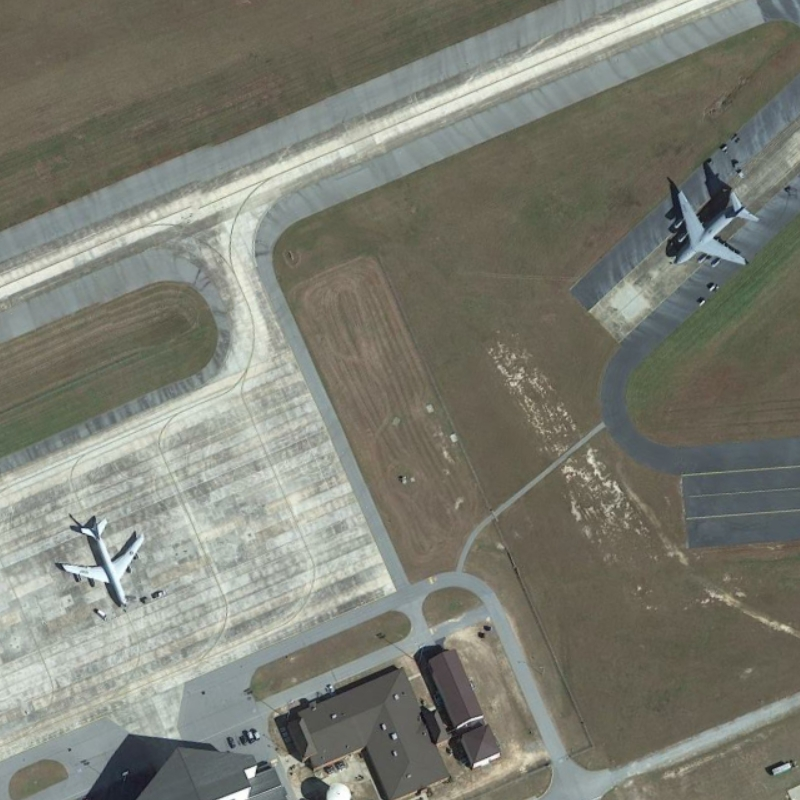A11: (53, 515, 151, 611)
A3: (666, 181, 762, 276)
